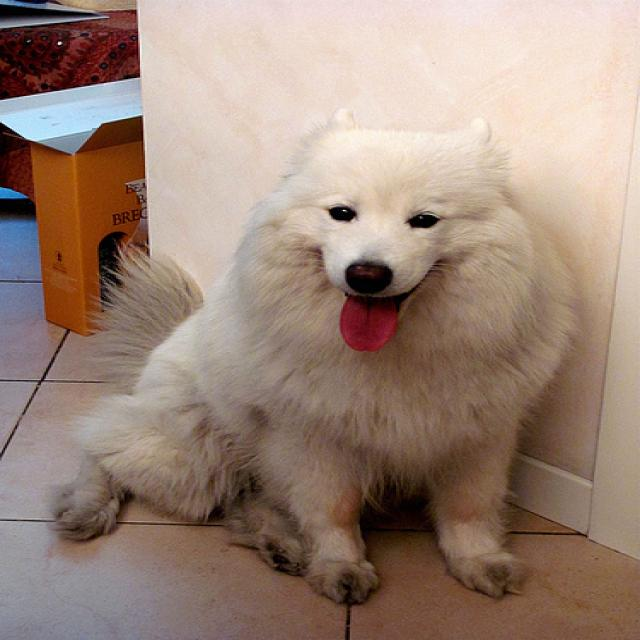dog-samoyed: (24, 93, 585, 614)
